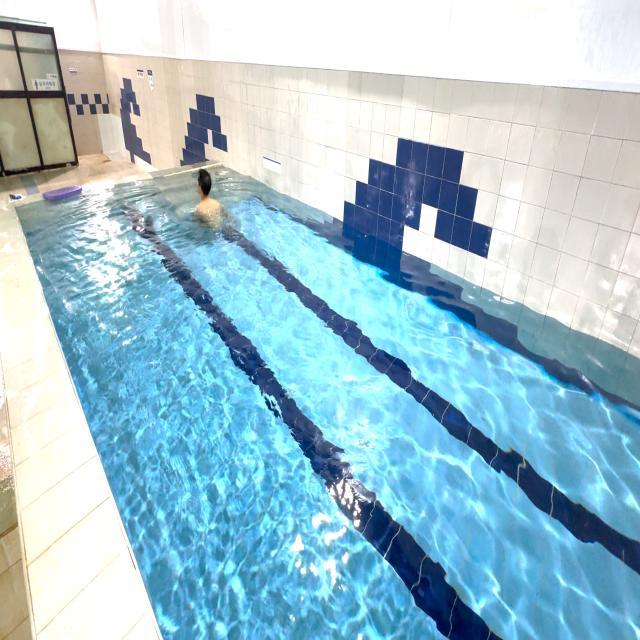Swimming: (183, 157, 235, 239)
